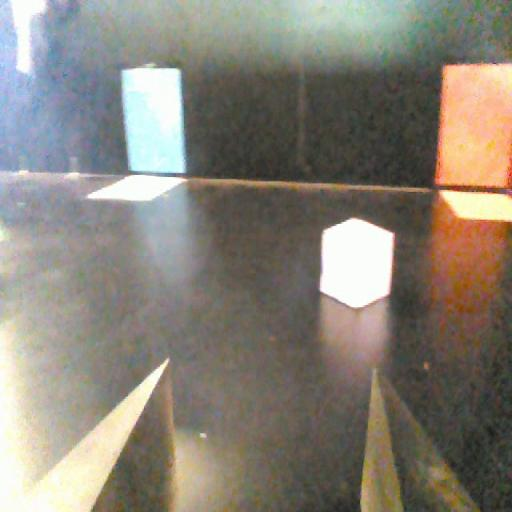cube: (318, 215, 394, 311)
